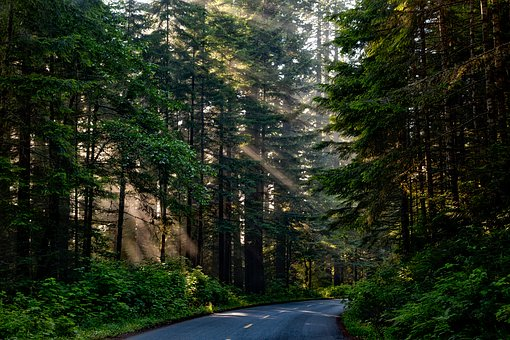forest: (3, 2, 506, 332)
tree: (20, 3, 177, 288), (154, 2, 311, 287), (306, 1, 463, 285)
